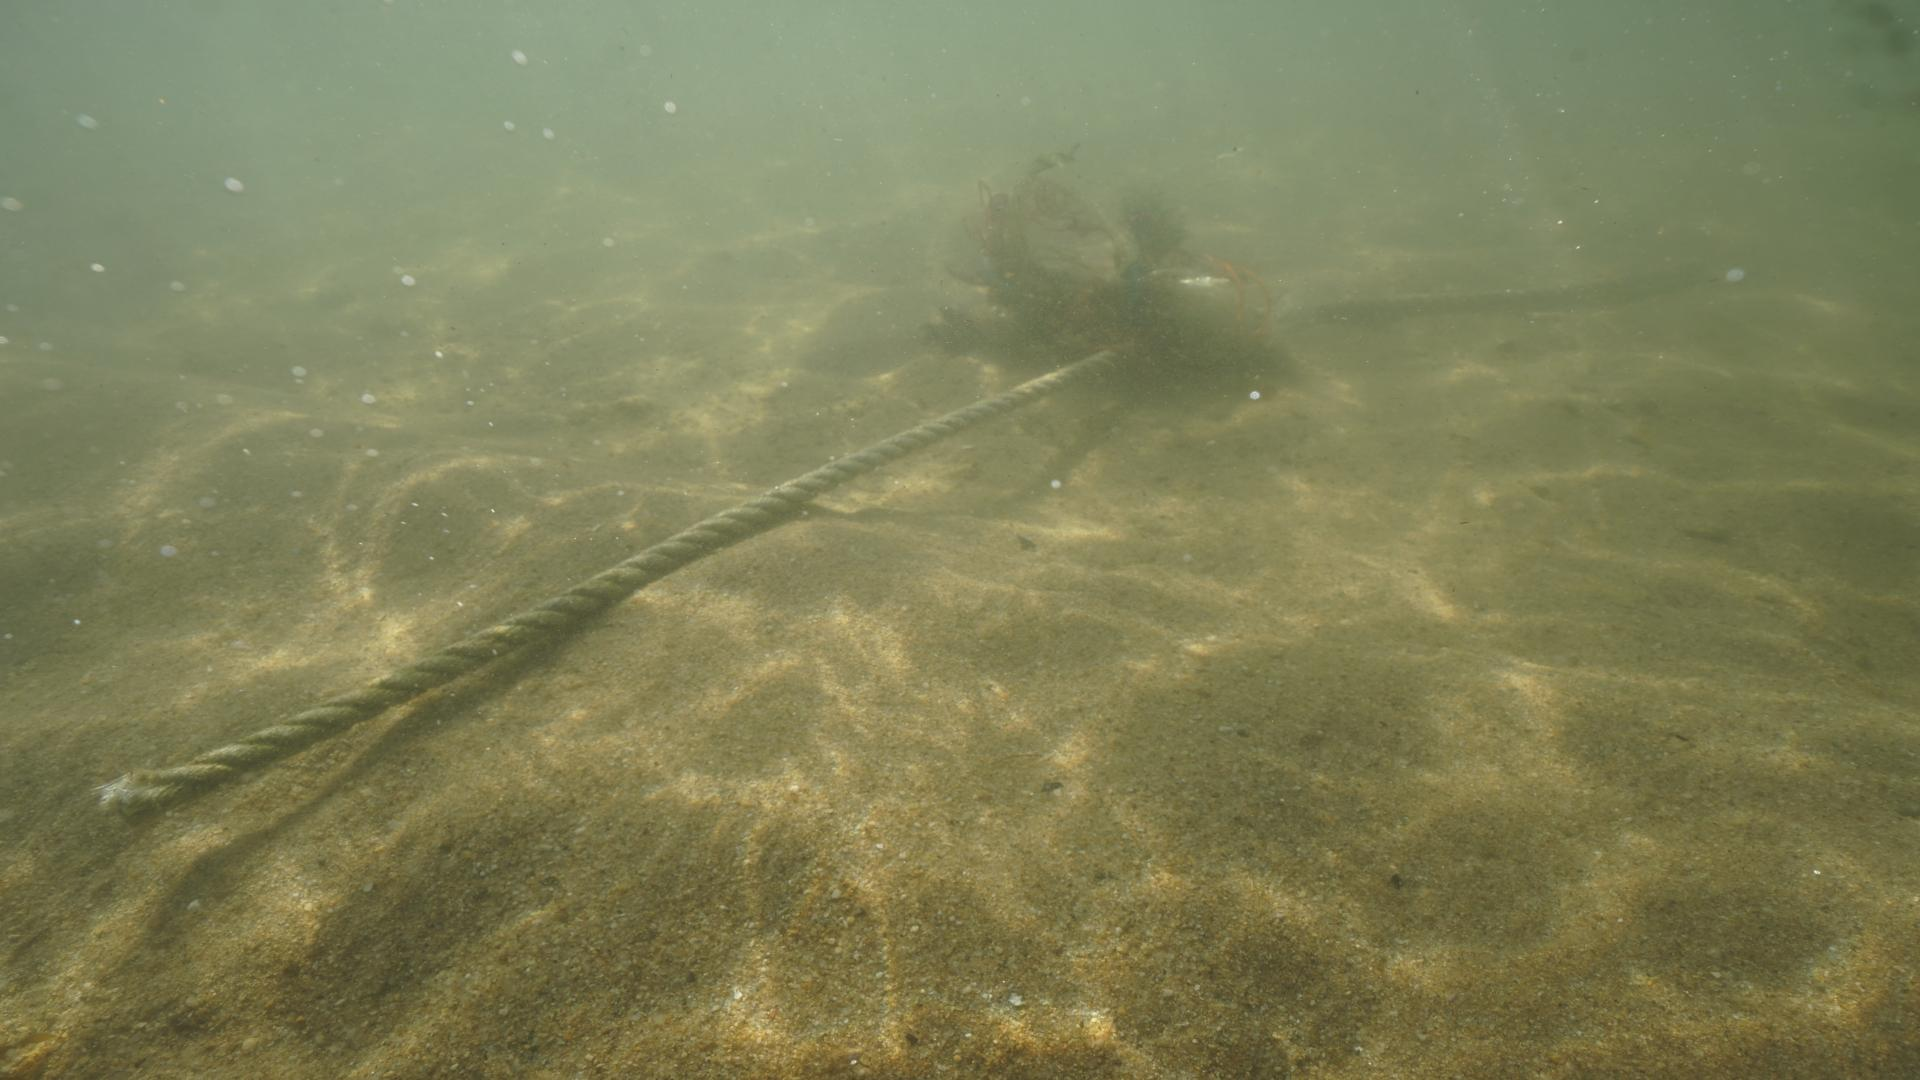rope: (88, 257, 1725, 836)
